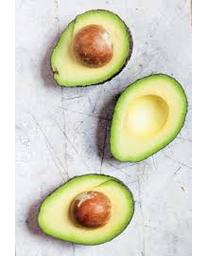avocado: (108, 74, 188, 164), (37, 173, 134, 246), (50, 8, 134, 88)
